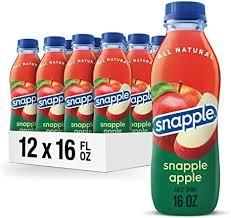juice: (161, 3, 221, 217), (98, 34, 129, 132), (128, 34, 155, 137), (67, 34, 94, 133), (11, 37, 37, 139), (40, 36, 64, 132)
